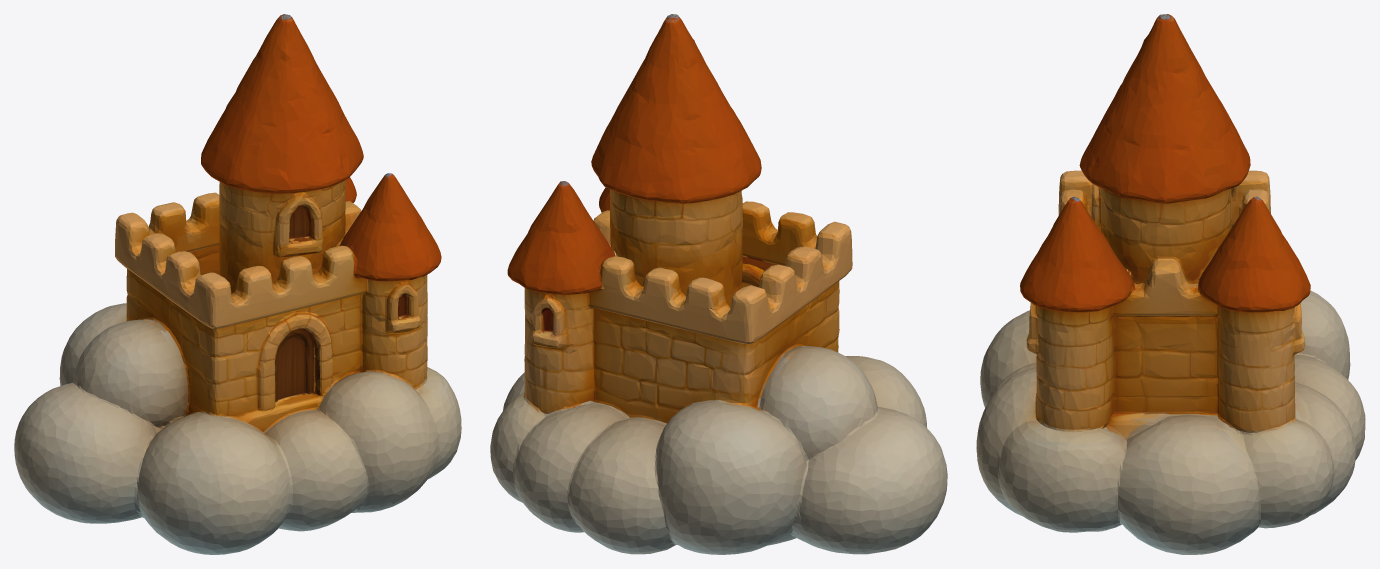
Rendered from castle.glb.
The picture shows the model from 3 angles, left to right: view 1: azimuth 30°, elevation 25°; view 2: azimuth 150°, elevation 25°; view 3: azimuth 270°, elevation 25°; orthographic projection. The views are drawn at different scales.
Parts seen in each view (by area): view 1: textured_mesh.obj; view 2: textured_mesh.obj; view 3: textured_mesh.obj.
Boxes of the visible parts, <box> form: textured_mesh.obj: <box>14,14,461,554</box>; textured_mesh.obj: <box>490,14,947,554</box>; textured_mesh.obj: <box>976,14,1365,554</box>.
Bounding box in the file's own units: 1.77 × 1.99 × 1.41.
Materials: 1 (1 with a texture image).
